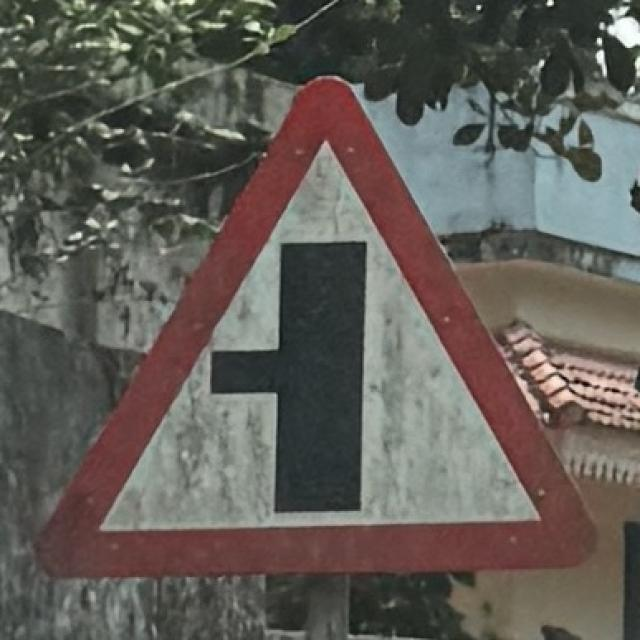SIDE_ROAD_LEFT: (22, 73, 601, 582)
